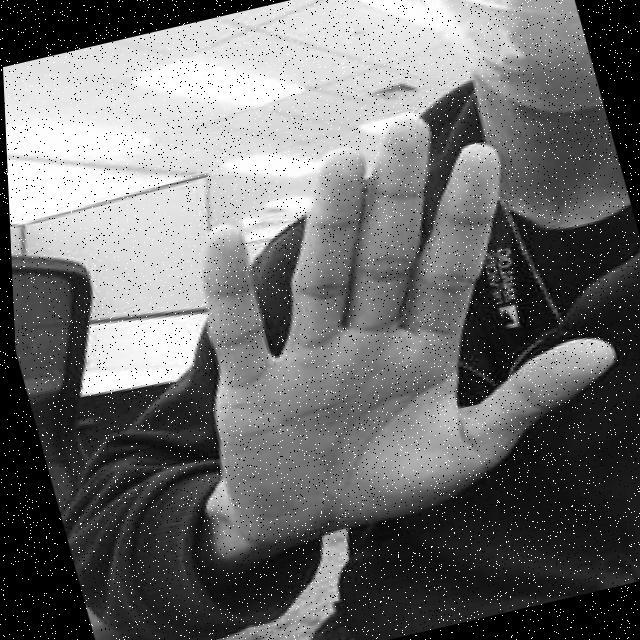no-gloves: (129, 78, 640, 552)
